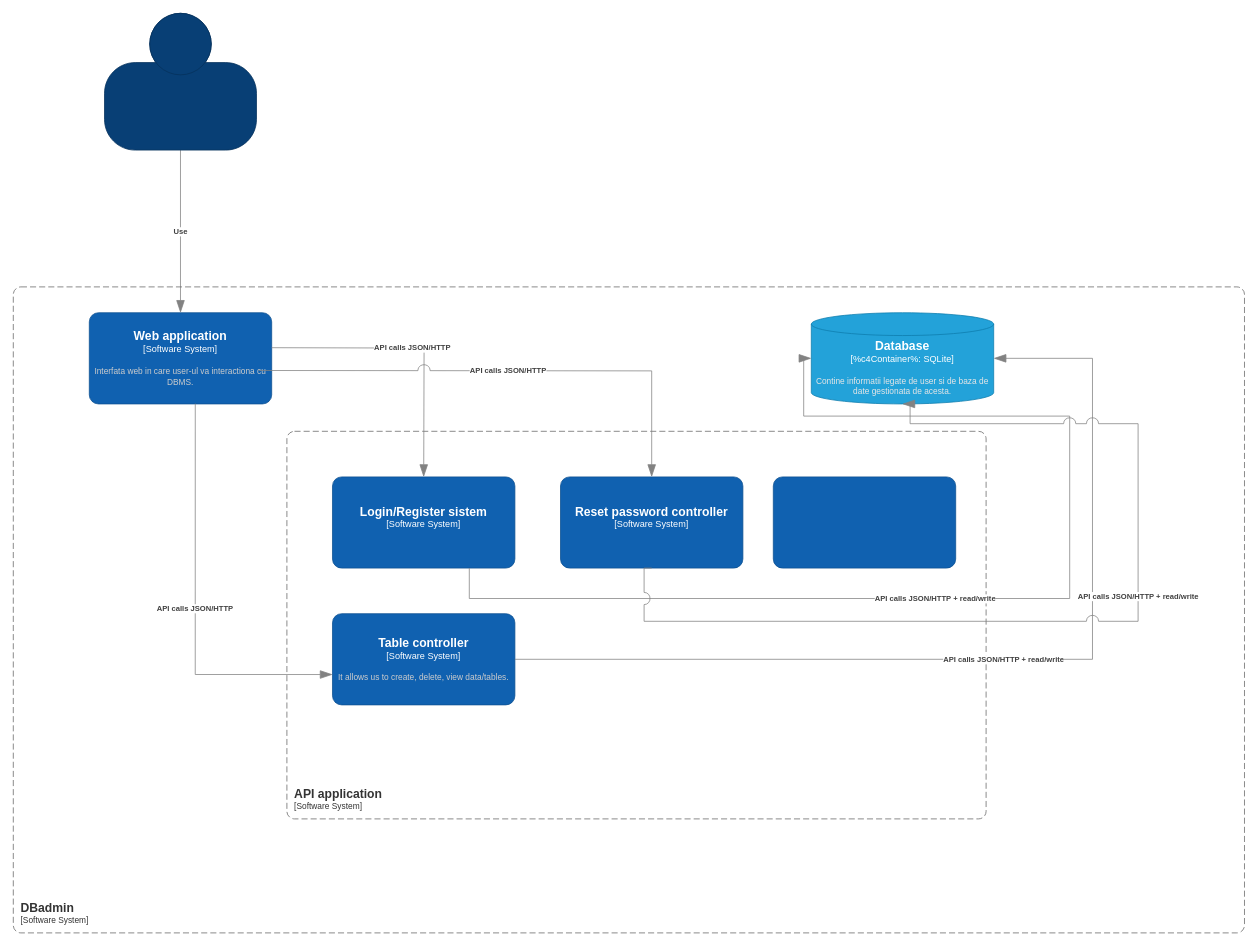
The diagram is 1258 pixels wide and 946 high, and some of its shapes have lost their labels. The centre of each missing label's shape, as x and y in pixels:
"Interpretor comenzi SQL [Software System] Description of software system." belongs at [864,522].
"User [User] Meneger de baze de date." belongs at [180,81].
